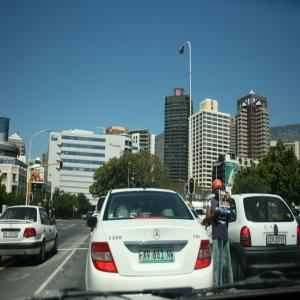Vehicle-registration-plate: (139, 248, 175, 263), (267, 235, 287, 248), (4, 231, 20, 239)
